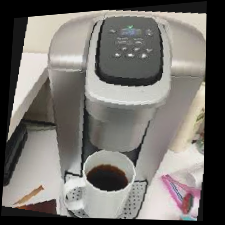10oz: (125, 53, 135, 60)
12oz: (139, 53, 149, 60)
4oz: (119, 44, 129, 51)
6oz: (132, 46, 142, 53)
8oz: (113, 52, 122, 59)
